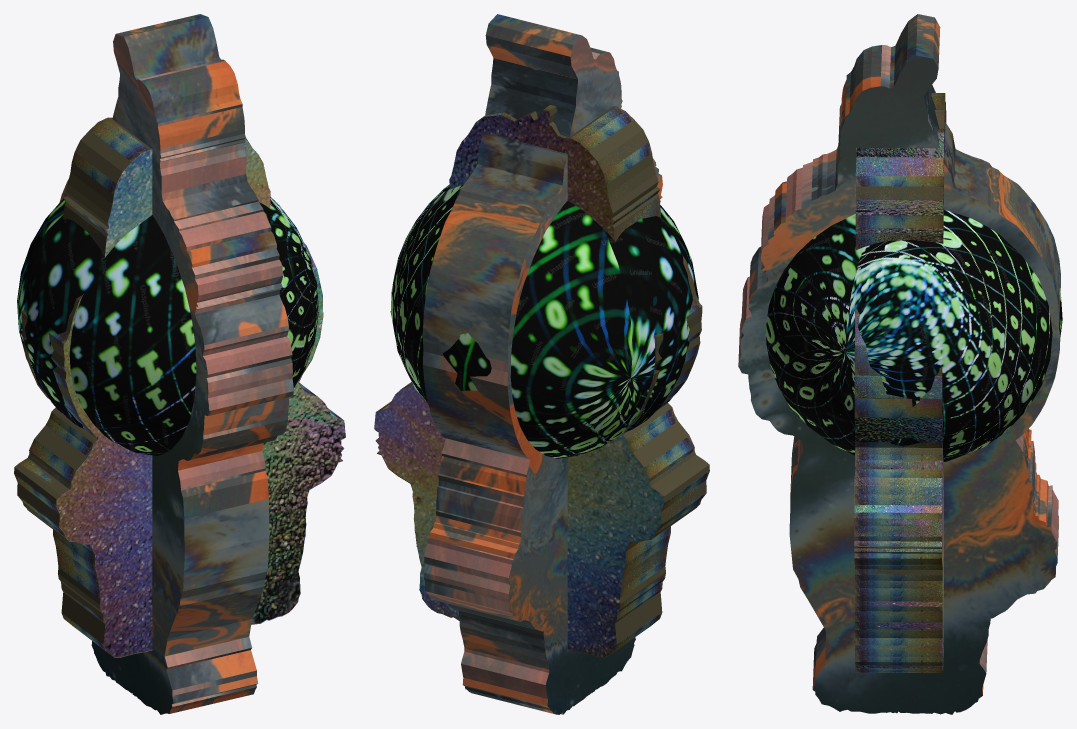
The model's file is reallyisolatedlabubu.glb.
3 views of the same model, side by side, from view 1: azimuth 30°, elevation 25°; view 2: azimuth 150°, elevation 25°; view 3: azimuth 270°, elevation 25° (orthographic). The views are drawn at different scales.
Visible parts, largest first — view 1: lebubu left side vertix, labubu face vertices, Sphere; view 2: lebubu left side vertix, labubu face vertices, Sphere; view 3: lebubu left side vertix, Sphere, labubu face vertices.
Part boxes in pixels (<box>): lebubu left side vertix: <box>59,14,293,714</box>; labubu face vertices: <box>14,117,345,657</box>; Sphere: <box>17,195,318,455</box>; lebubu left side vertix: <box>422,14,662,714</box>; labubu face vertices: <box>374,105,709,657</box>; Sphere: <box>390,184,698,458</box>; lebubu left side vertix: <box>738,14,1060,714</box>; Sphere: <box>766,209,1062,461</box>; labubu face vertices: <box>854,93,946,672</box>.
Size of the model in its own units: 8.19 by 17.71 by 7.89.
Materials: 3 (3 with a texture image).
